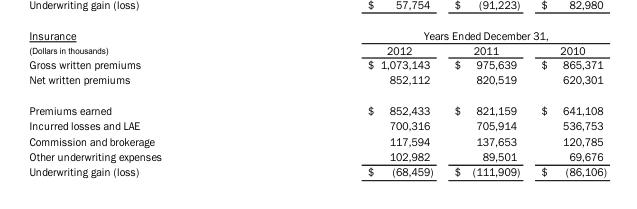table: (28, 28, 605, 177)
table column: (28, 28, 263, 177), (263, 28, 443, 177), (443, 28, 529, 177), (529, 28, 605, 177)
table column header: (28, 28, 605, 56)
table row: (28, 71, 605, 94), (28, 94, 605, 117), (28, 117, 605, 133), (28, 56, 605, 71), (28, 133, 605, 148), (28, 148, 605, 163), (28, 28, 605, 42), (28, 42, 605, 56), (28, 163, 605, 177)
table spanning cell: (28, 28, 263, 56), (263, 28, 605, 42)
